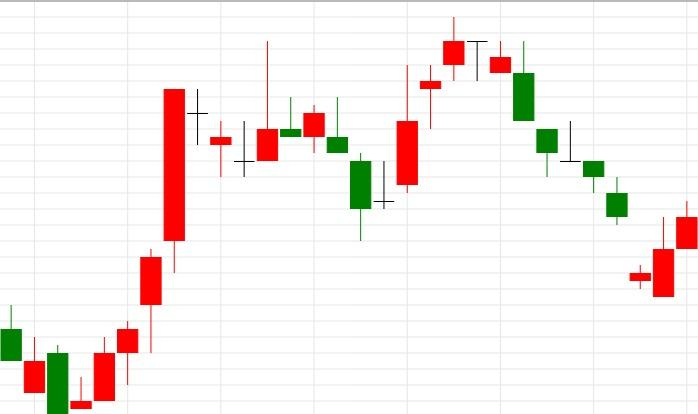morning_star_rise: (303, 64, 419, 241)
three_white_soldiers_rise: (0, 304, 139, 414)
